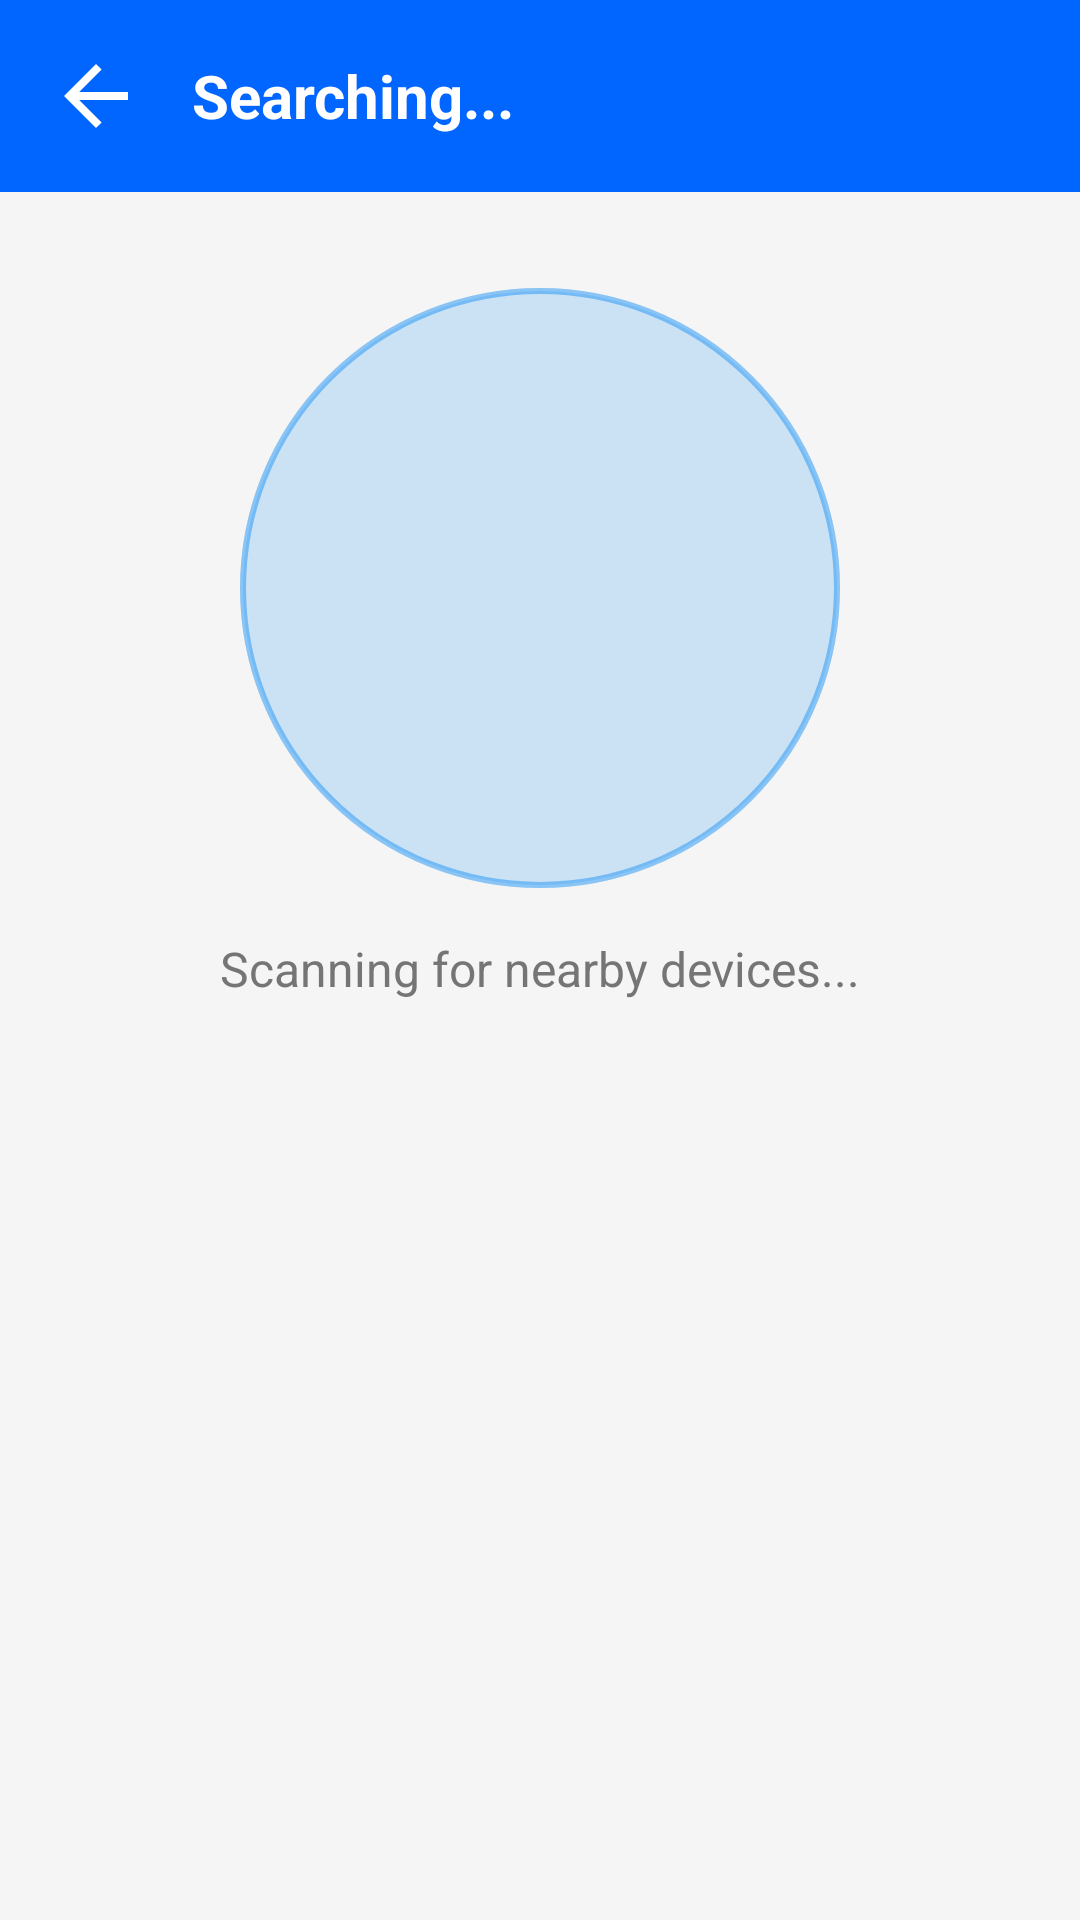

Where icons sit on this 1080*1920 app screen, as (x1, y1, x2, y2):
ab back: (64, 64, 128, 128)
